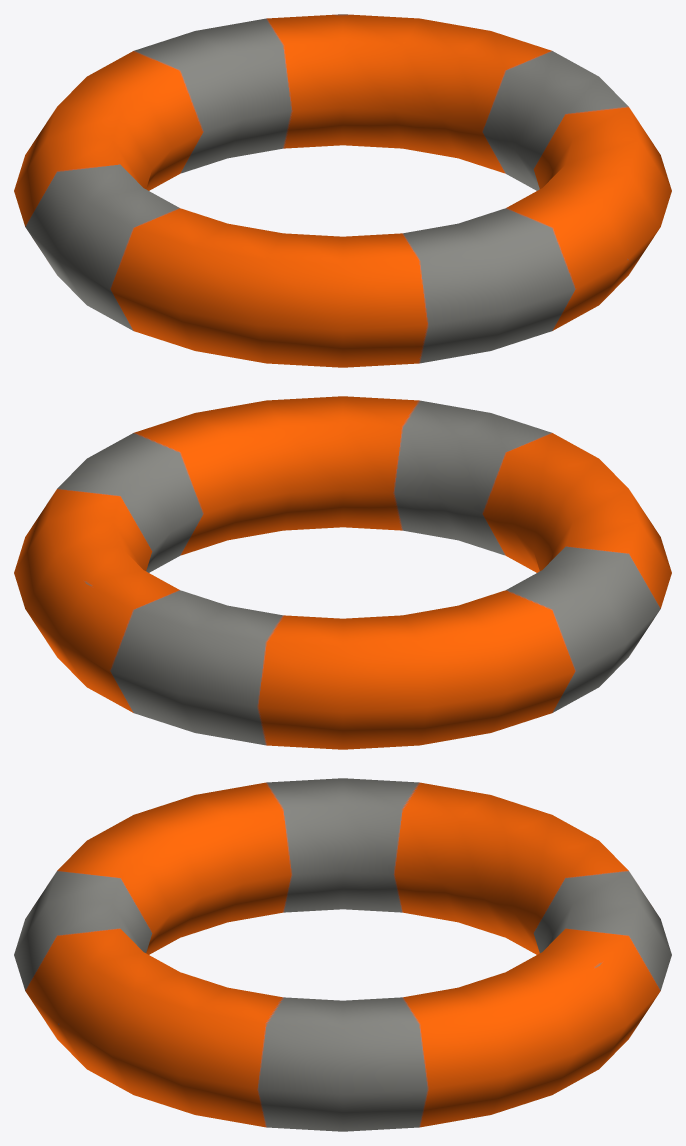
The model's file is shipFloat.fbx.
3 views of the same model, one above another, from view 1: azimuth 30°, elevation 25°; view 2: azimuth 150°, elevation 25°; view 3: azimuth 270°, elevation 25° (orthographic).
Visible parts, largest first — view 1: Torus.003; view 2: Torus.003; view 3: Torus.003.
Part boxes in pixels (x1,y1,x2,y2): Torus.003: (14,14,671,367); Torus.003: (14,396,671,749); Torus.003: (14,778,671,1131).
Bounding box in the file's own units: 82.92 × 14.36 × 82.92.
1 material, 1 textured.
